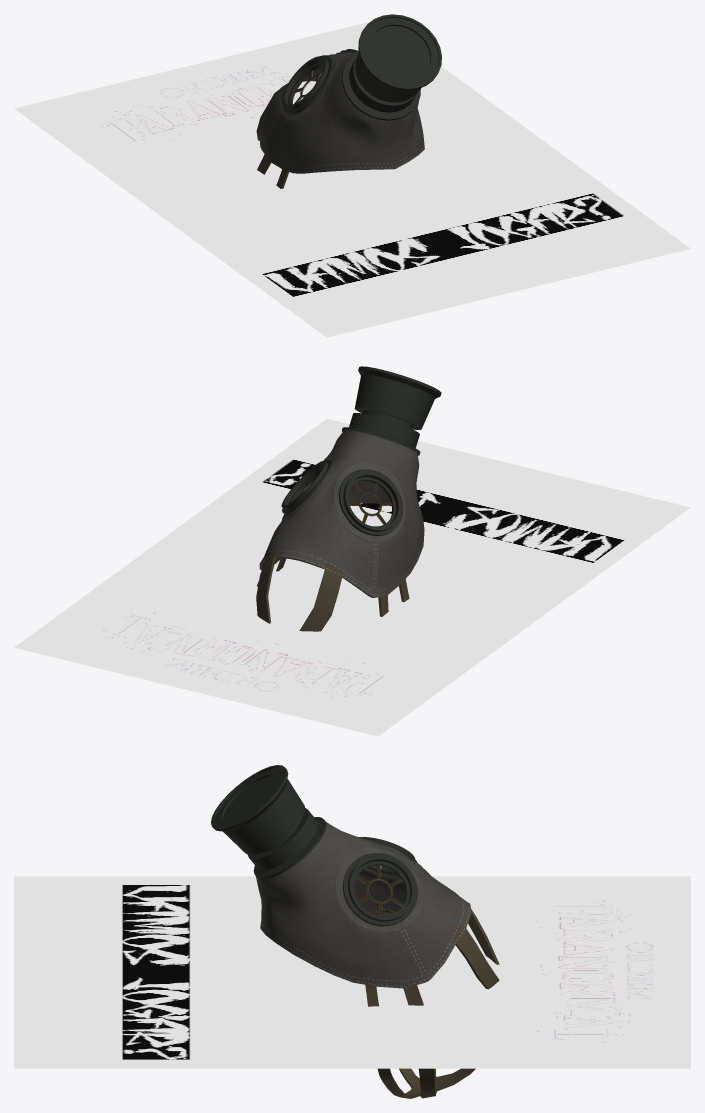
File: asset.glb
The picture shows the model from 3 angles, top to bottom: view 1: azimuth 30°, elevation 25°; view 2: azimuth 150°, elevation 25°; view 3: azimuth 270°, elevation 25°; orthographic projection. The views are drawn at different scales.
Visible parts, largest first — view 1: CAPA_TITULO, Capa_O_Jogo_do_Anfitri%3Fo; view 2: CAPA_TITULO, Capa_O_Jogo_do_Anfitri%3Fo; view 3: CAPA_TITULO, Capa_O_Jogo_do_Anfitri%3Fo.
Part boxes in pixels (<box>): CAPA_TITULO: <box>14,22,690,337</box>; Capa_O_Jogo_do_Anfitri%3Fo: <box>256,14,441,188</box>; CAPA_TITULO: <box>14,419,690,736</box>; Capa_O_Jogo_do_Anfitri%3Fo: <box>256,366,441,631</box>; CAPA_TITULO: <box>14,876,690,1068</box>; Capa_O_Jogo_do_Anfitri%3Fo: <box>211,765,499,1098</box>.
Bounding box in the file's own units: 3.23 × 2.49 × 4.8.
Materials: 3 (3 with a texture image).
